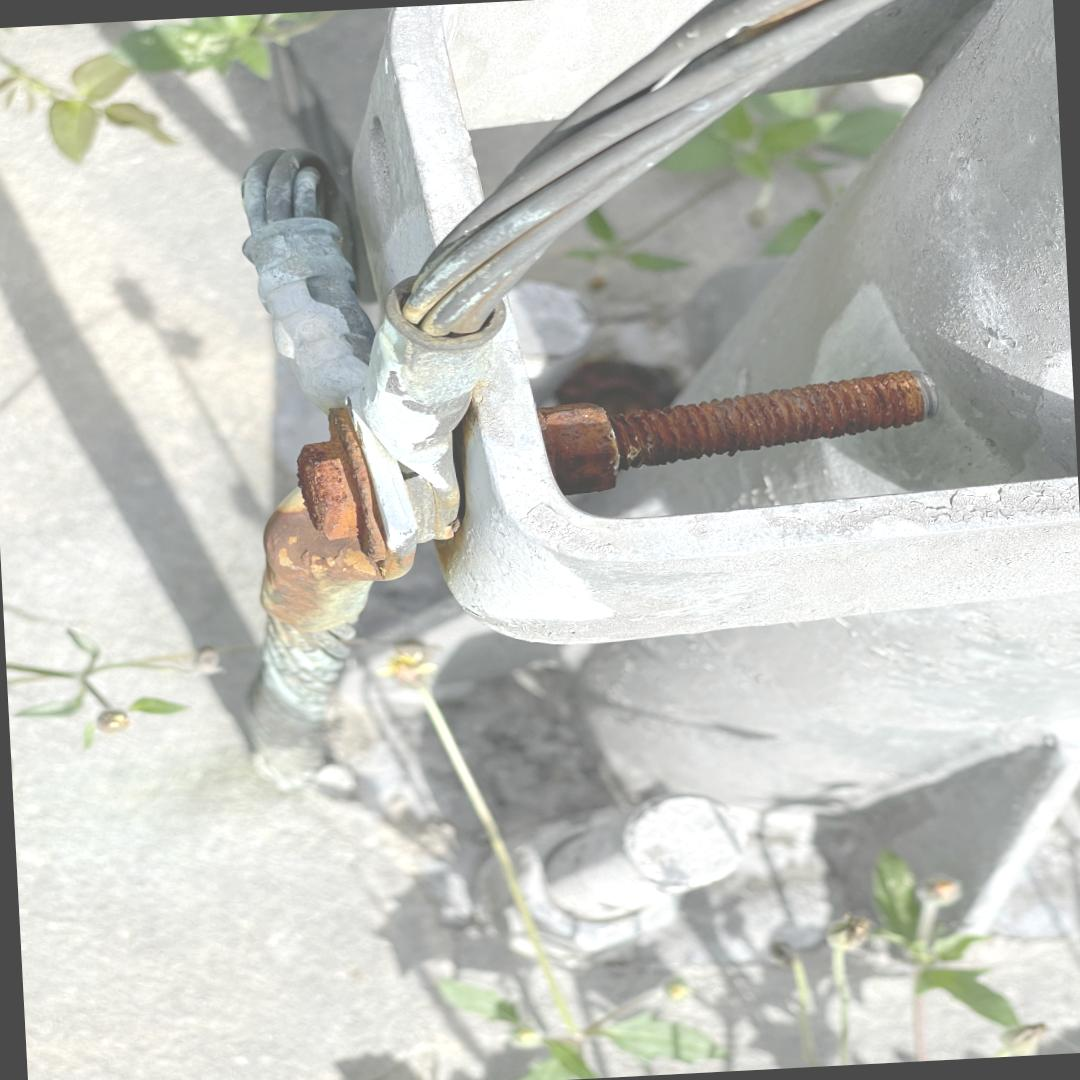Metal: (243, 0, 1080, 727)
Metal corroido: (542, 371, 933, 495), (266, 403, 411, 712)
